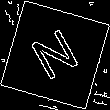N_SE: (25, 23, 85, 87)
